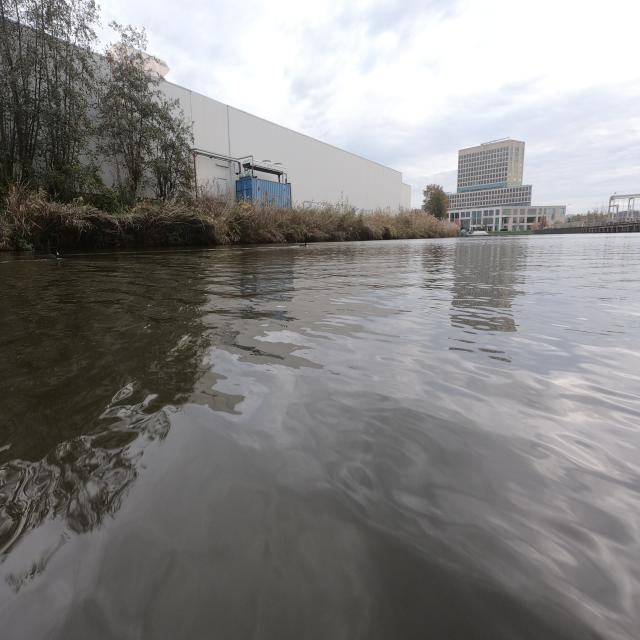reed: (0, 196, 460, 248)
sky: (98, 2, 638, 204)
water: (0, 234, 640, 640)
